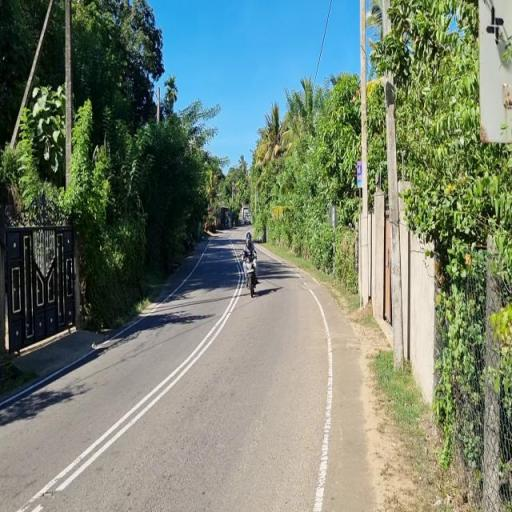double_white_line: (4, 288, 242, 512)
